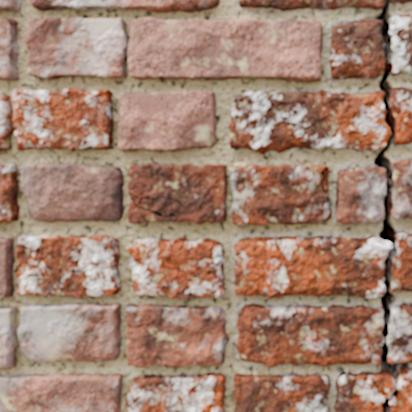brick: (25, 16, 321, 80), (0, 88, 112, 150), (16, 235, 120, 297), (125, 304, 226, 367), (231, 164, 330, 225), (128, 163, 226, 223), (22, 164, 123, 221), (128, 238, 223, 298), (119, 91, 215, 150), (19, 304, 120, 360), (0, 374, 121, 411), (126, 373, 225, 411), (234, 373, 329, 411), (29, 0, 218, 11), (0, 19, 18, 80), (0, 163, 18, 222), (0, 307, 16, 368), (0, 238, 13, 297), (0, 0, 21, 11), (324, 176, 327, 192)
broken_brick: (228, 89, 389, 154), (233, 235, 390, 298), (235, 302, 383, 367), (329, 18, 383, 80), (335, 163, 384, 225), (334, 370, 393, 411), (237, 0, 383, 11), (388, 302, 411, 362), (391, 13, 411, 75), (391, 158, 411, 219), (391, 86, 411, 145), (393, 231, 411, 291), (391, 367, 411, 411), (392, 0, 411, 4)
crack: (373, 0, 409, 411), (128, 191, 186, 220), (305, 166, 328, 203), (127, 321, 154, 328), (5, 17, 13, 25)
